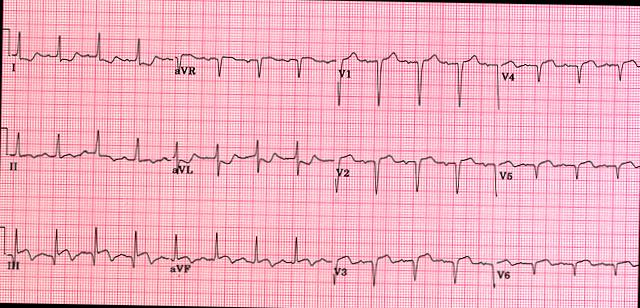Lead_I: (7, 25, 175, 83)
Lead_II: (4, 122, 172, 182)
Lead_III: (2, 222, 170, 279)
Lead_V1: (333, 40, 501, 112)
Lead_V2: (333, 141, 500, 200)
Lead_V3: (329, 240, 496, 296)
Lead_V4: (500, 45, 640, 92)
Lead_V5: (495, 144, 640, 192)
Lead_V6: (492, 244, 638, 295)
Lead_aVF: (167, 224, 334, 284), (168, 226, 332, 277)
Lead_aVL: (168, 134, 336, 185)
Lead_aVR: (171, 39, 337, 91)
